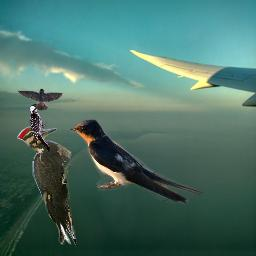Swallow: (66, 115, 206, 204), (16, 88, 63, 111)
Woodpecker: (17, 126, 78, 247), (29, 104, 50, 153)
